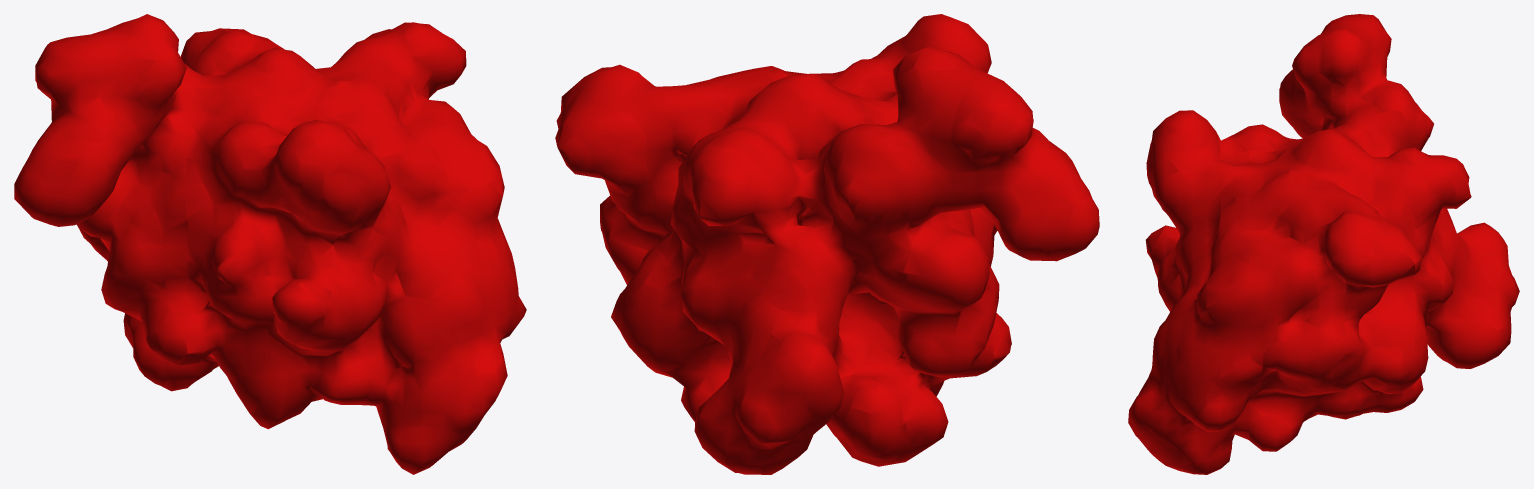
The model's file is CoarseMS_4kmu.fbx.
3 renders of one model, left to right at view 1: azimuth 30°, elevation 25°; view 2: azimuth 150°, elevation 25°; view 3: azimuth 270°, elevation 25°, orthographic. The views are drawn at different scales.
Parts seen in each view (by area): view 1: CoarseMS_4kmu_Mesh; view 2: CoarseMS_4kmu_Mesh; view 3: CoarseMS_4kmu_Mesh.
Boxes of the visible parts, x1,y1,x2,y2 form: CoarseMS_4kmu_Mesh: (14,14,526,474); CoarseMS_4kmu_Mesh: (555,14,1099,474); CoarseMS_4kmu_Mesh: (1128,14,1519,474).
Size of the model in its own units: 174 by 153 by 150.
